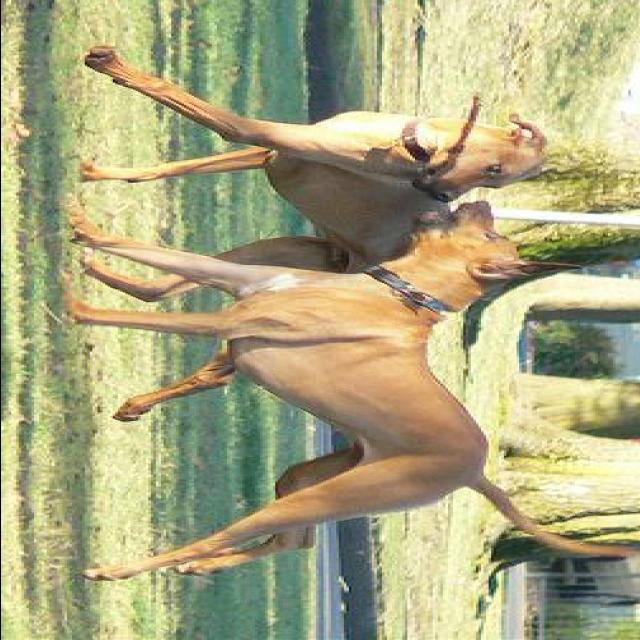rhodesian_ridgeback: (56, 192, 640, 585), (71, 44, 549, 422)
